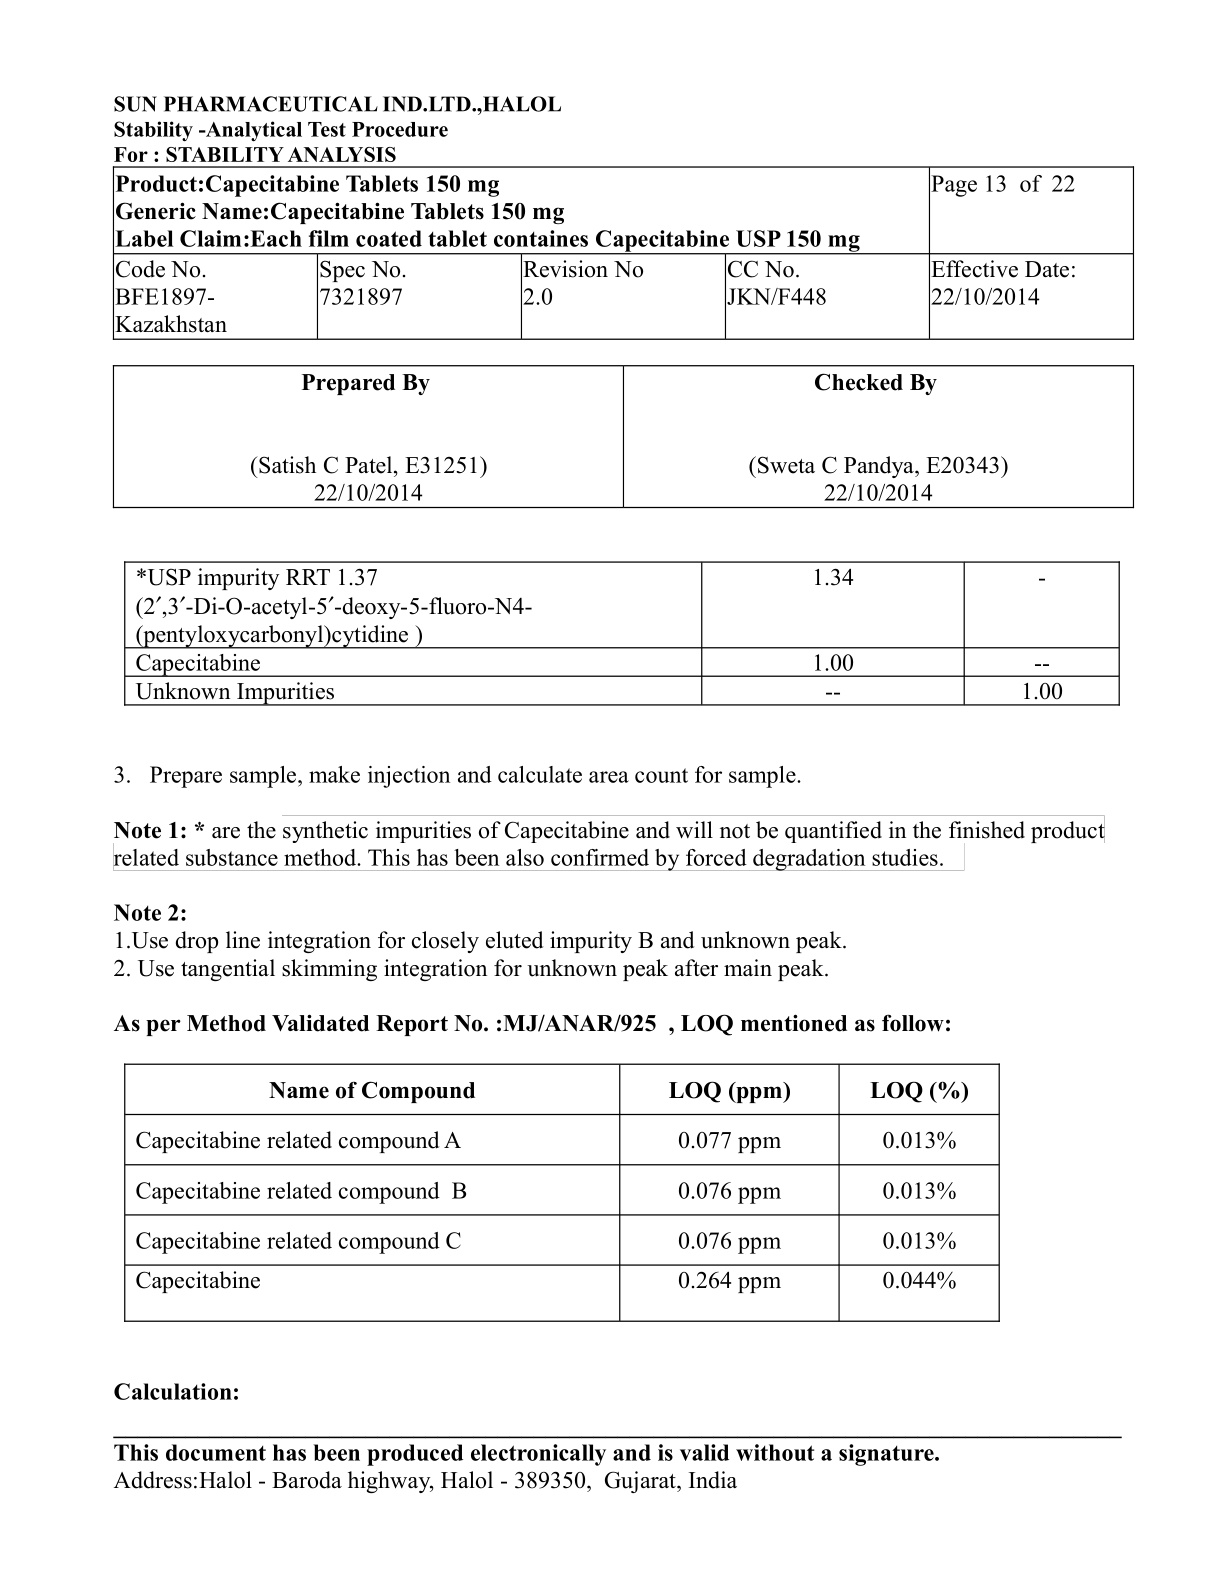full_lined: (123, 1063, 1002, 1323), (112, 364, 1135, 509), (123, 561, 1121, 707)
merged_cells: (112, 165, 1135, 341)
